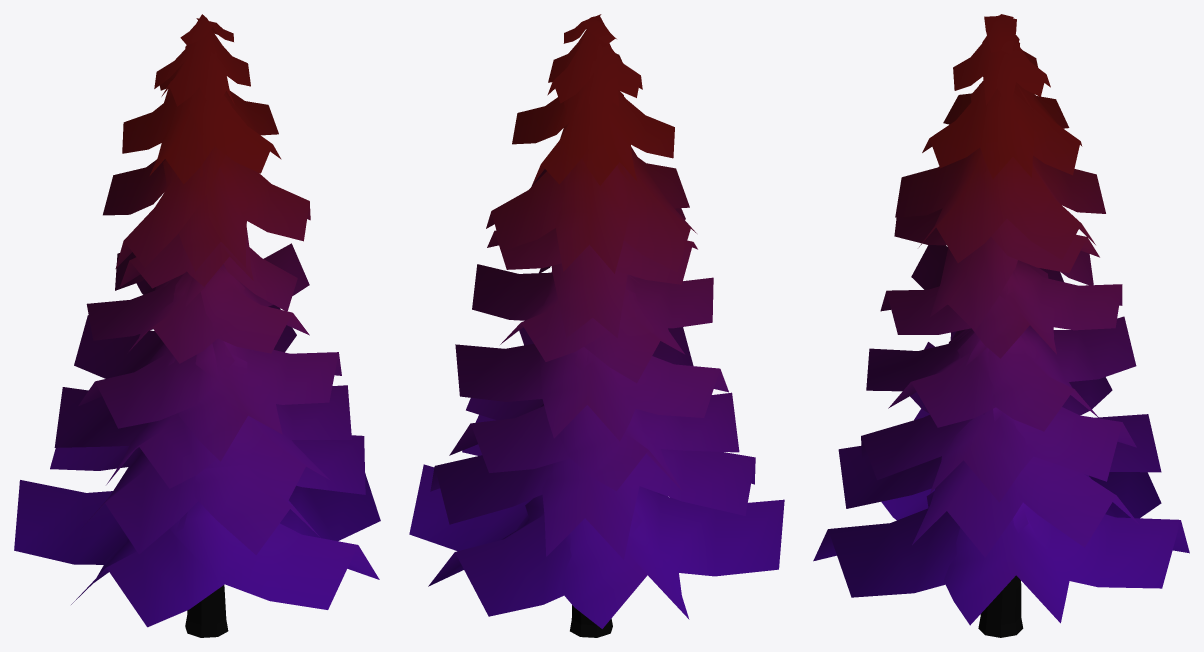
File: SM_Tree_Pine_01_LOD_01.fbx
3 renders of one model, left to right at view 1: azimuth 30°, elevation 25°; view 2: azimuth 150°, elevation 25°; view 3: azimuth 270°, elevation 25°, orthographic.
Parts seen in each view (by area): view 1: SM_Tree_Pine_01_LOD_01; view 2: SM_Tree_Pine_01_LOD_01; view 3: SM_Tree_Pine_01_LOD_01.
Boxes of the visible parts, bbox=[...] form: SM_Tree_Pine_01_LOD_01: bbox=[14, 14, 380, 637]; SM_Tree_Pine_01_LOD_01: bbox=[409, 14, 784, 637]; SM_Tree_Pine_01_LOD_01: bbox=[813, 14, 1189, 637].
Bounding box in the file's own units: 314 × 568 × 317.
